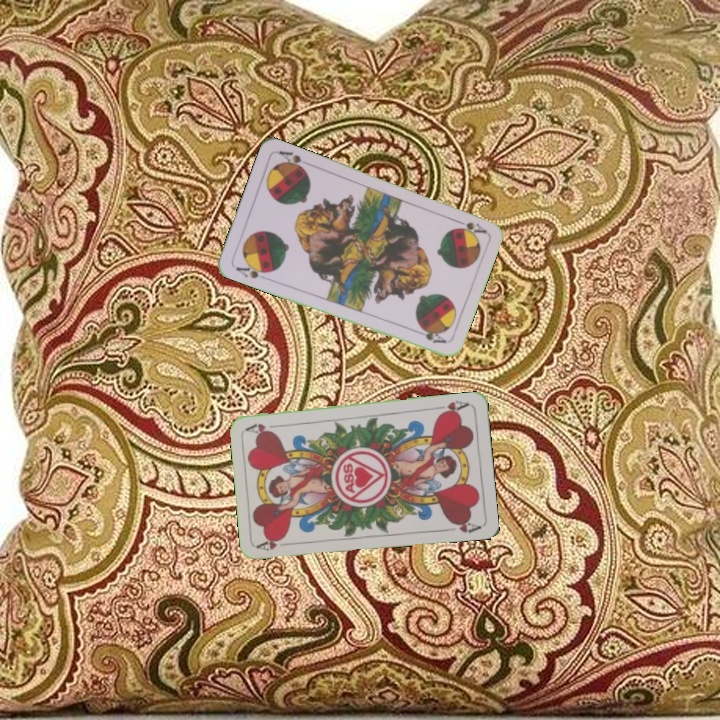HA: (431, 396, 472, 417), (254, 533, 295, 554)
SA: (232, 260, 272, 281), (449, 215, 489, 236)
